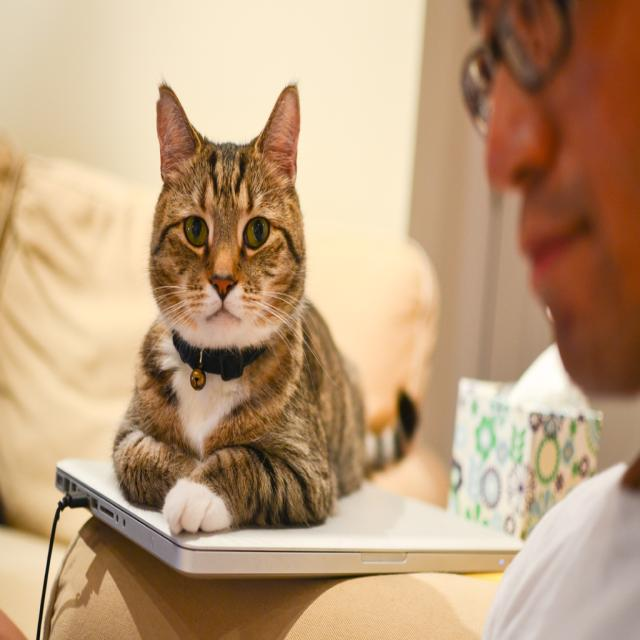Cat: (110, 74, 421, 538)
